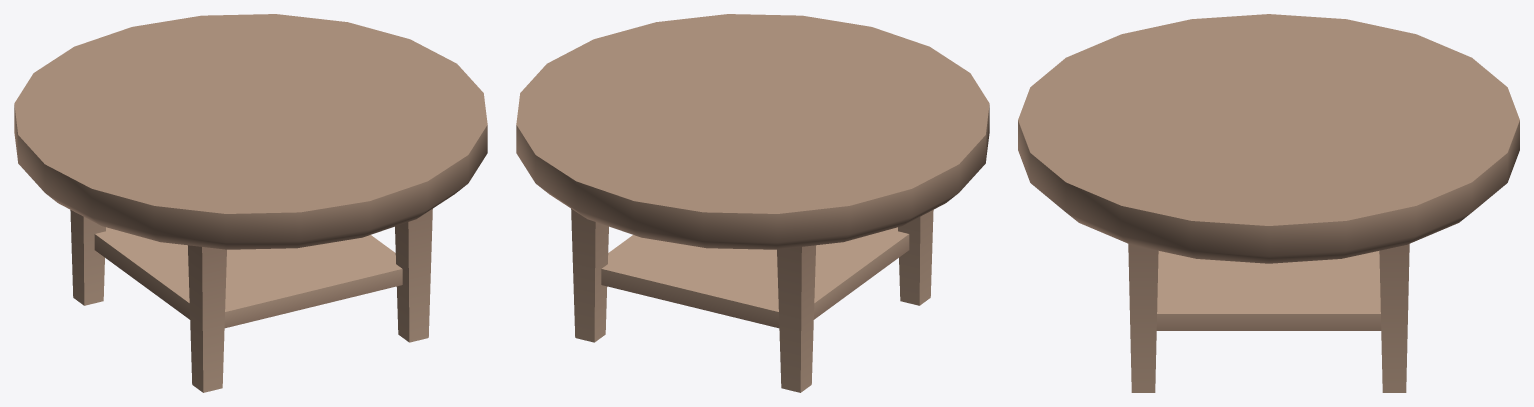
The model's file is table-coffee-round-shelf.glb.
The picture shows the model from 3 angles, left to right: view 1: azimuth 30°, elevation 25°; view 2: azimuth 150°, elevation 25°; view 3: azimuth 270°, elevation 25°; orthographic projection. The views are drawn at different scales.
Visible parts, largest first — view 1: table-coffee-round-shelf; view 2: table-coffee-round-shelf; view 3: table-coffee-round-shelf.
Part boxes in pixels (x1,y1,x2,y2): table-coffee-round-shelf: (14,14,487,392); table-coffee-round-shelf: (516,14,989,392); table-coffee-round-shelf: (1018,14,1519,392).
Bounding box in the file's own units: 0.8 × 0.378 × 0.8.
